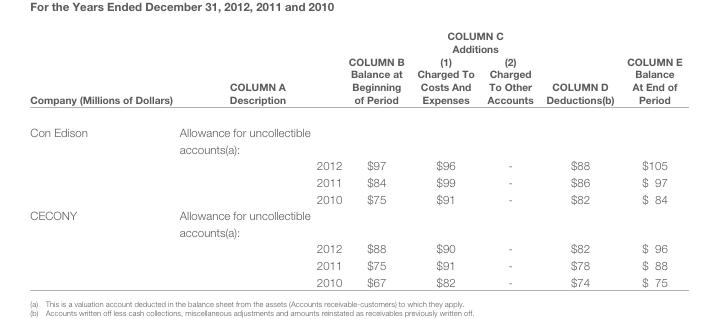table: (29, 29, 681, 288)
table column: (29, 29, 175, 288), (175, 29, 312, 288), (539, 29, 619, 288), (410, 29, 480, 288), (344, 29, 410, 288), (619, 29, 681, 288), (480, 29, 539, 288), (312, 29, 344, 288)
table column header: (29, 29, 681, 206)
table row: (29, 115, 681, 206), (29, 54, 681, 115), (29, 206, 681, 239), (29, 29, 681, 54), (29, 239, 681, 256), (29, 256, 681, 272), (29, 272, 681, 288)
table spanning cell: (29, 29, 175, 206), (175, 29, 344, 115), (539, 29, 619, 206), (29, 206, 175, 288), (344, 29, 410, 206), (619, 29, 681, 206), (410, 54, 480, 206), (480, 54, 539, 206), (410, 29, 539, 54)
